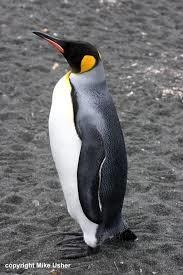king: (14, 21, 151, 263)
